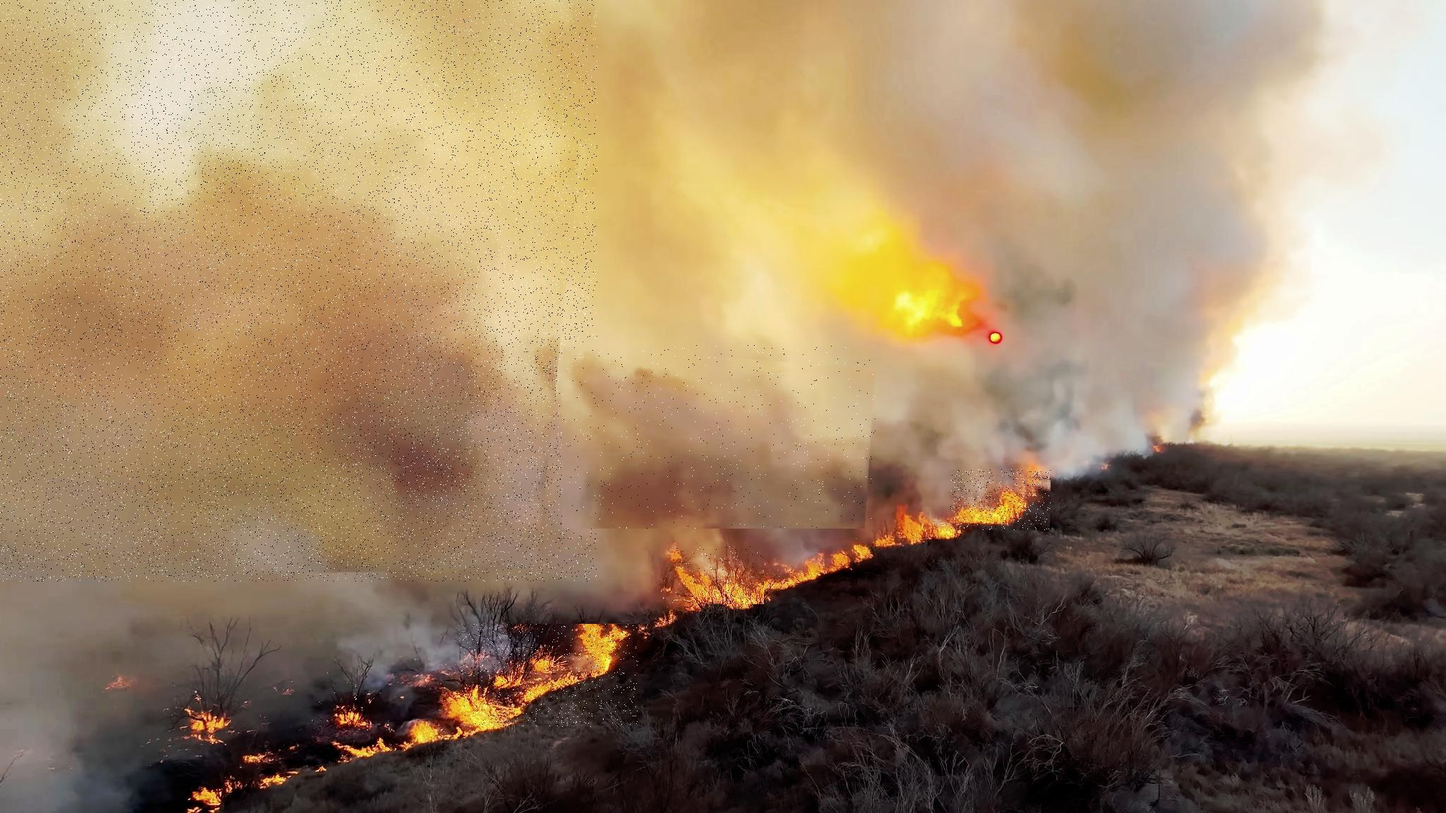fire: (460, 624, 638, 727), (950, 469, 1051, 530), (669, 546, 764, 604)
smoke: (0, 0, 597, 582), (562, 345, 876, 529)
